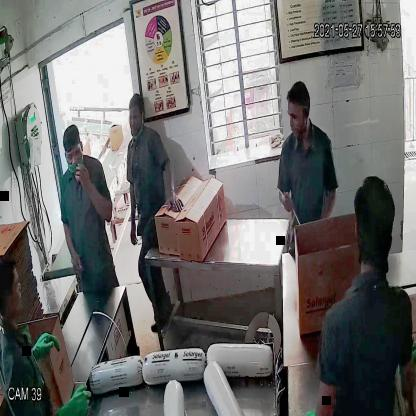no_goggles: (286, 105, 307, 126), (63, 146, 85, 164)
